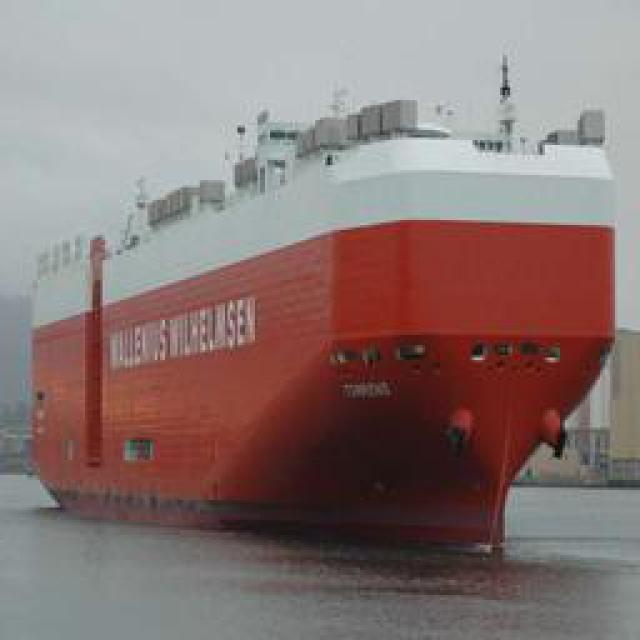Ship: (6, 51, 640, 564)
